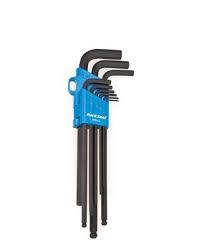wrench: (77, 46, 123, 71), (88, 58, 130, 77), (100, 67, 134, 79), (81, 77, 111, 88), (87, 84, 113, 91), (91, 89, 116, 93)
